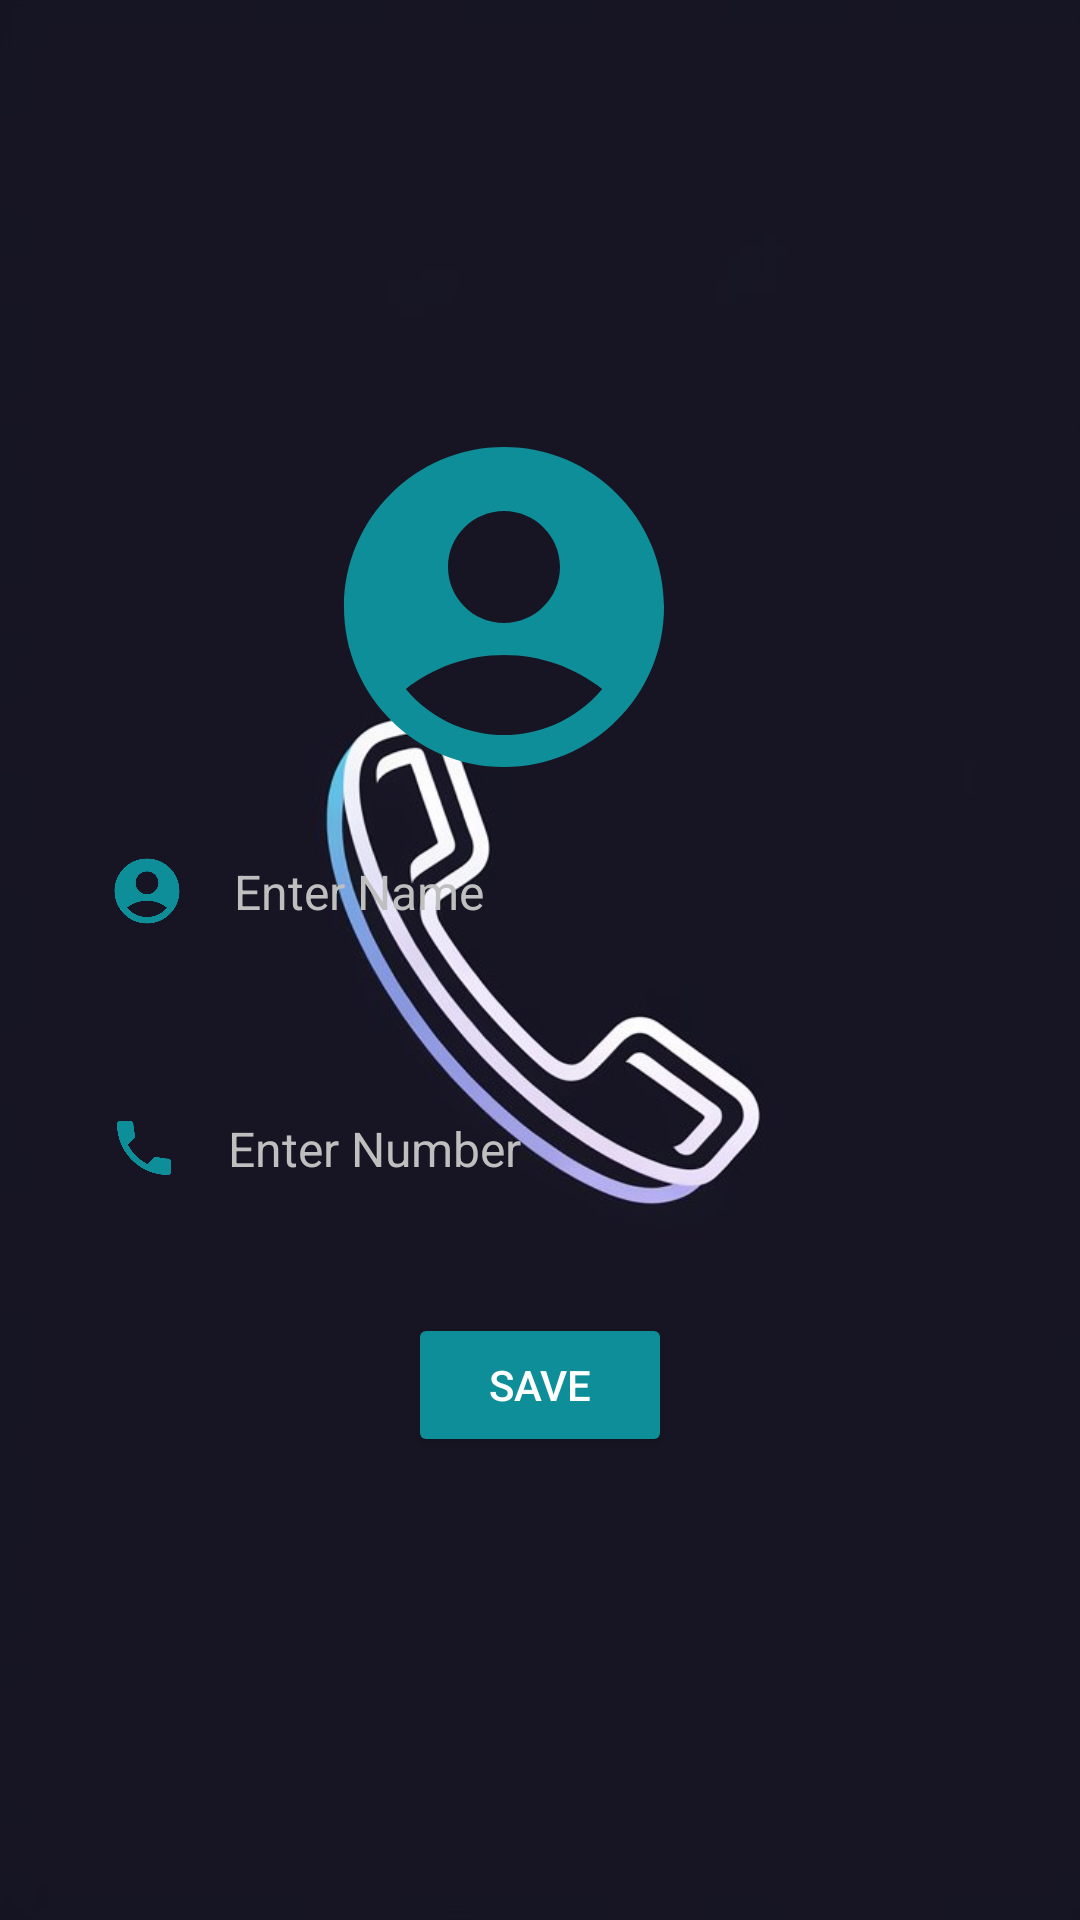

Locate icon controls on the screen. Image size 1080x1920, boxes as [x1=x1, y1=y1, x2=x2, y2=y2].
phone: [x1=117, y1=1121, x2=171, y2=1175]
